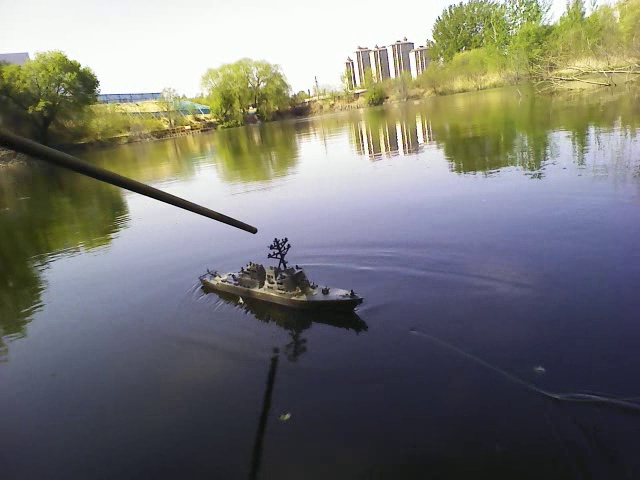warship: (191, 238, 364, 312)
